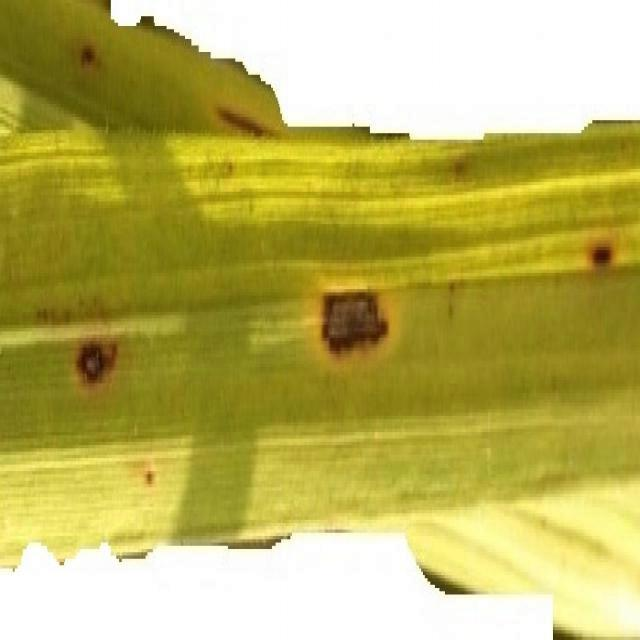Brownspot: (322, 291, 387, 352), (76, 341, 116, 383), (217, 108, 269, 135), (589, 242, 613, 267), (452, 155, 468, 180), (80, 44, 95, 67), (448, 282, 455, 318), (223, 160, 235, 177), (145, 467, 155, 485)
